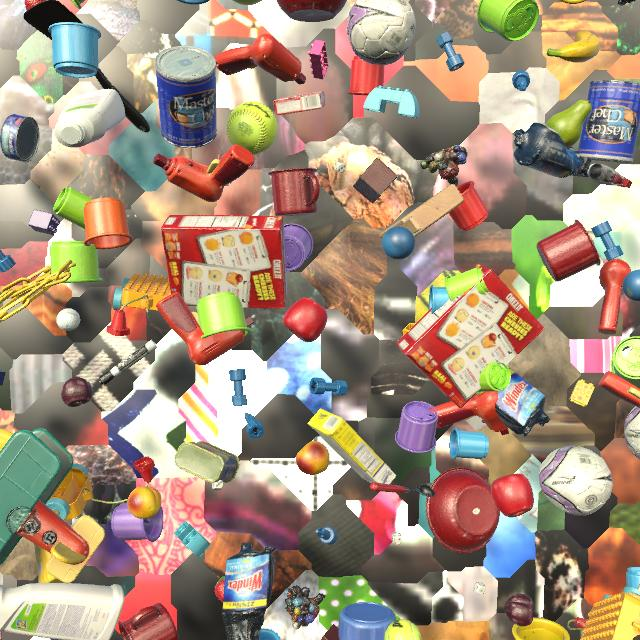ycb_002_master_chef_can: (154, 46, 217, 148), (578, 80, 640, 163)
ycb_003_cracker_box: (397, 263, 544, 409), (161, 215, 288, 309)
ycb_004_sugar_box: (308, 408, 397, 484)
ycb_006_mustard_bottle: (34, 544, 64, 583), (0, 429, 13, 451)
ycb_007_tuna_fish_can: (0, 114, 40, 162)
ycb_009_gelatin_box: (273, 91, 325, 115)
ycb_010_potted_meat_can: (174, 441, 240, 483)
ycb_011_banana: (547, 30, 600, 63)
ycb_012_strawberry: (215, 576, 225, 602), (25, 0, 46, 10)
ycb_013_apple: (283, 297, 327, 342), (491, 473, 534, 517)
ycb_015_peach: (296, 441, 330, 475), (127, 486, 162, 519)
ycb_016_pear: (546, 100, 592, 148)
ycb_018_plum: (504, 594, 534, 627), (61, 377, 93, 407)
